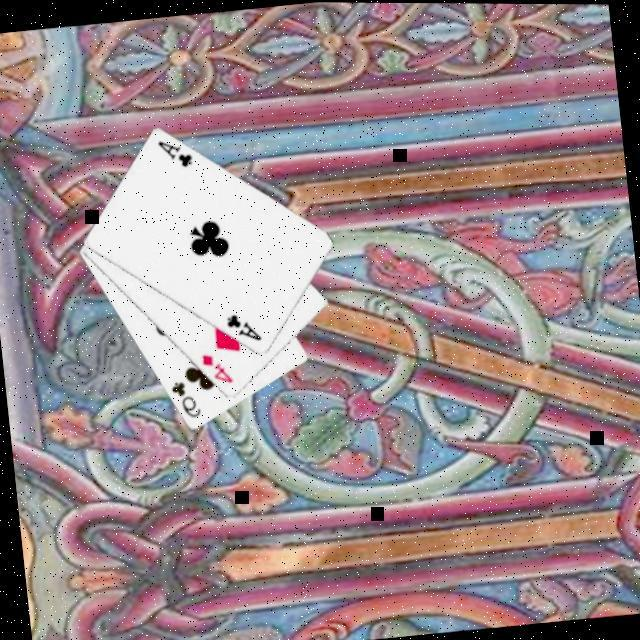4D: (196, 345, 236, 387)
6C: (166, 373, 203, 420)
AC: (151, 131, 195, 171), (221, 306, 264, 345)
